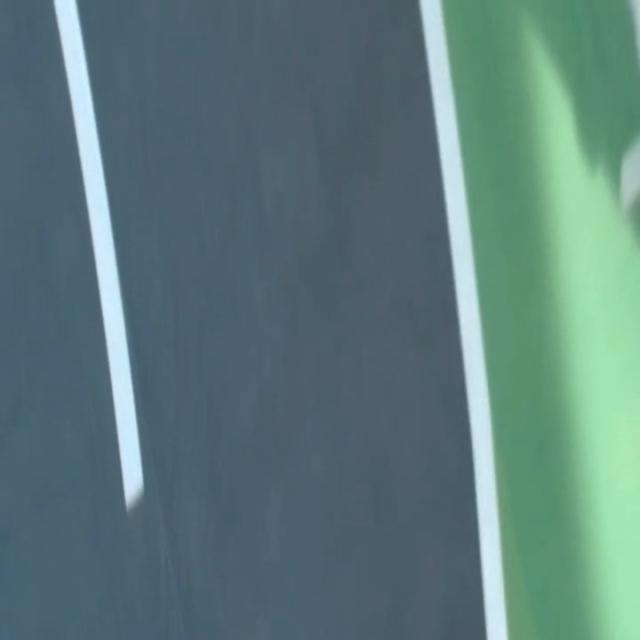center: (53, 0, 142, 509)
right: (419, 0, 508, 639)
